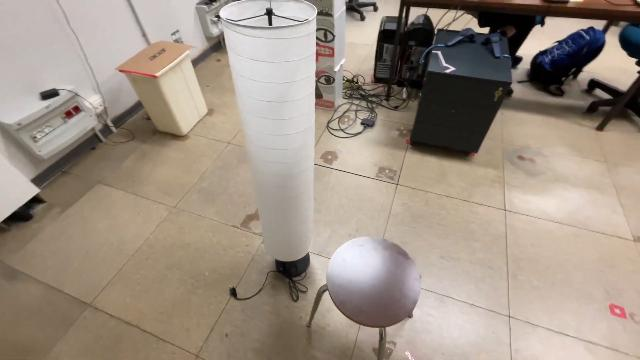Lamp: (217, 0, 319, 282)
Stool: (301, 232, 427, 360)
